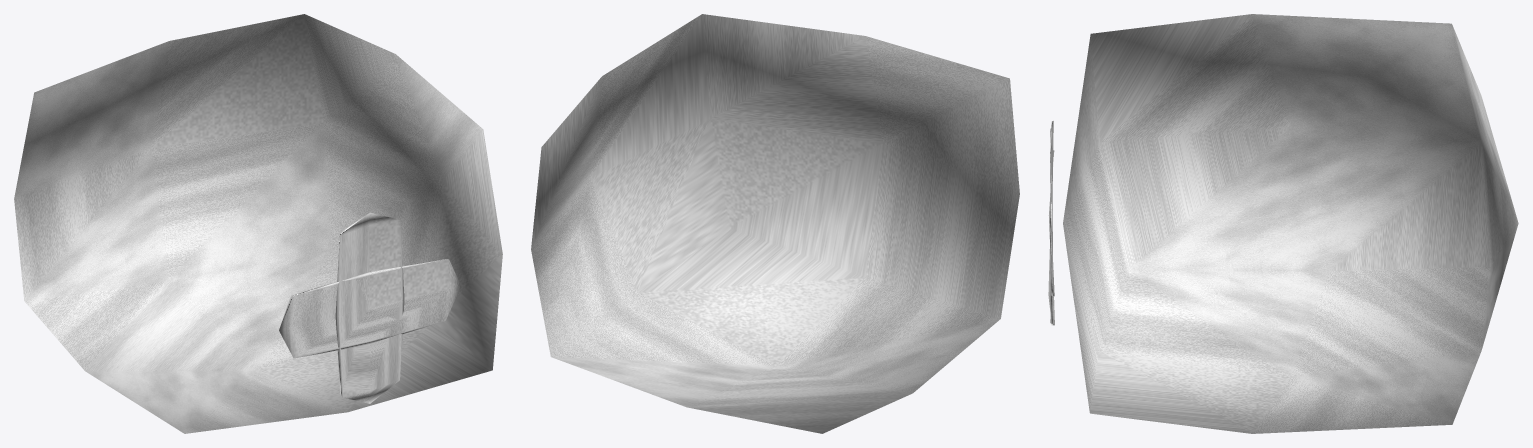
Rendered from prop_medkit_low.glb.
The picture shows the model from 3 angles, left to right: view 1: azimuth 30°, elevation 25°; view 2: azimuth 150°, elevation 25°; view 3: azimuth 270°, elevation 25°; orthographic projection. The views are drawn at different scales.
Size of the model in its own units: 0.3909 by 0.2905 by 0.4034.
1 material, 1 textured.
